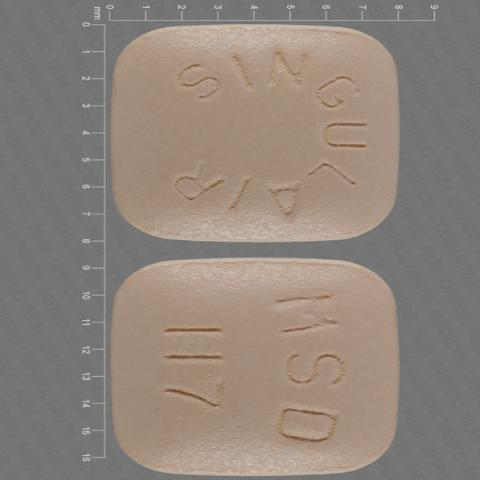Pill: (104, 247, 440, 480), (102, 11, 421, 249)
